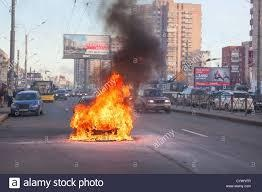fire: (64, 72, 136, 144)
